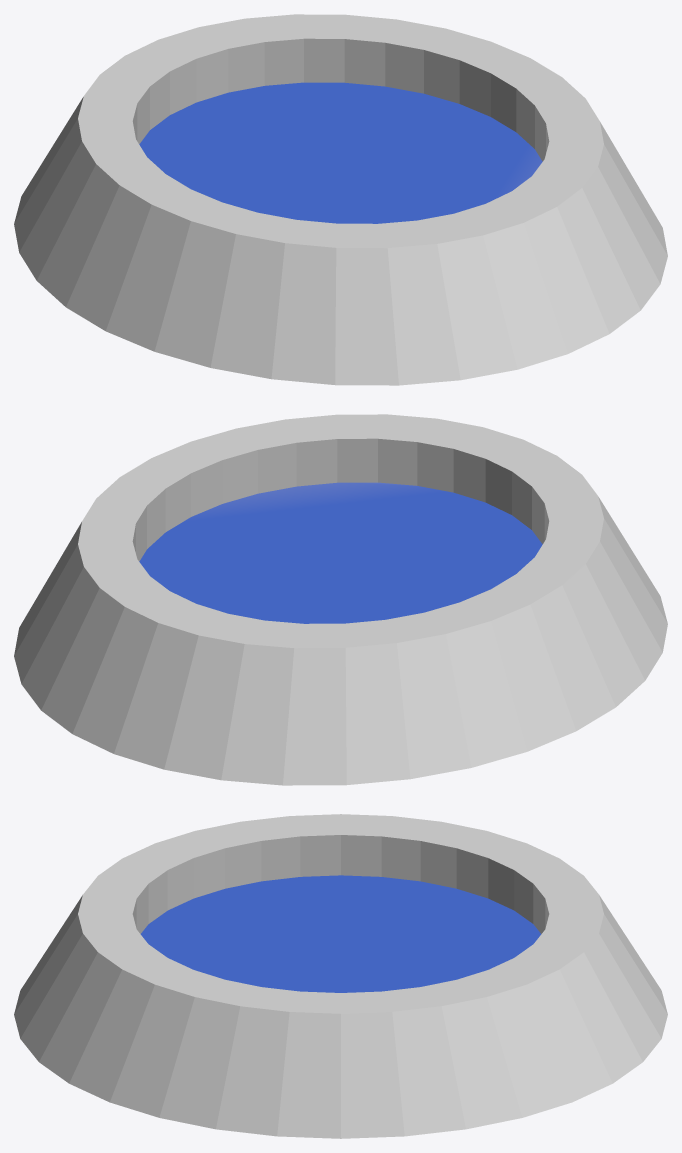
The model's file is cat-water-dish.gltf.
3 views of the same model, one above another, from view 1: azimuth 30°, elevation 25°; view 2: azimuth 150°, elevation 25°; view 3: azimuth 270°, elevation 25° (orthographic). The views are drawn at different scales.
Visible parts, largest first — view 1: Circle.001; view 2: Circle.001; view 3: Circle.001.
Boxes of the visible parts, box(x1,y1,x2,y2) form: Circle.001: box(14, 14, 667, 385); Circle.001: box(14, 414, 667, 785); Circle.001: box(14, 814, 667, 1138).
Bounding box in the file's own units: 0.6869 × 0.13 × 0.7647.
